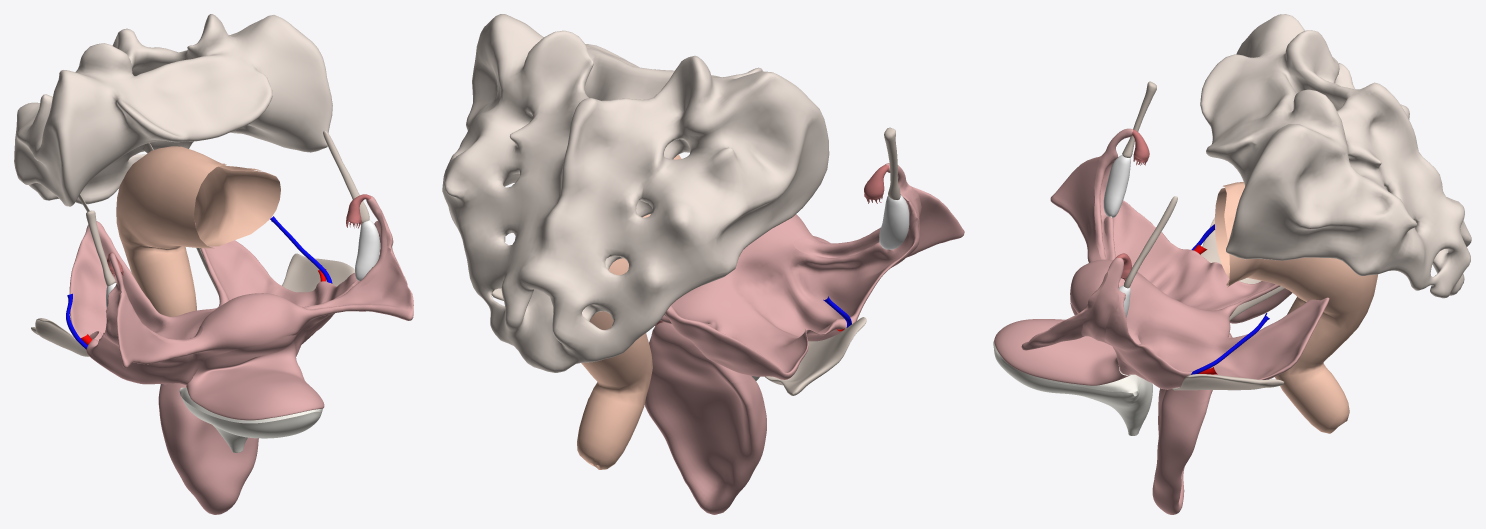
The model's file is pelvis.glb.
The picture shows the model from 3 angles, left to right: view 1: azimuth 30°, elevation 25°; view 2: azimuth 150°, elevation 25°; view 3: azimuth 270°, elevation 25°; orthographic projection. The views are drawn at different scales.
Visible parts, largest first — view 1: VH_F_sacrum, VH_F_broad_ligament, VH_F_rectum, VH_F_uterovesical_pouch, VH_F_vagina, VH_F_fundus_of_urinary_bladder_base, VH_F_left_cardinal_ligament_of_uterus, VH_F_mesosalpinx_L, VH_F_mesosalpinx_R, VH_F_left_ovary, VH_F_right_cardinal_ligament_of_uterus, VH_F_suspensory_ligament_of_ovary_L (+2 smaller); view 2: VH_F_sacrum, VH_F_broad_ligament, VH_F_vagina, VH_F_rectum, VH_F_cervicovaginal_junction, VH_F_right_cardinal_ligament_of_uterus, VH_F_mesosalpinx_R, VH_F_right_ovary, VH_F_suspensory_ligament_of_ovary_R; view 3: VH_F_sacrum, VH_F_broad_ligament, VH_F_rectum, VH_F_uterovesical_pouch, VH_F_vagina, VH_F_fundus_of_urinary_bladder_base, VH_F_mesosalpinx_L, VH_F_mesosalpinx_R, VH_F_left_cardinal_ligament_of_uterus, VH_F_right_ovary, VH_F_fundus_of_urinary_bladder_dome, VH_F_suspensory_ligament_of_ovary_L (+1 smaller).
Part boxes in pixels (left/top/right/bottom): VH_F_sacrum: left=14, top=14, right=332, bottom=206; VH_F_broad_ligament: left=69, top=209, right=413, bottom=385; VH_F_rectum: left=116, top=146, right=280, bottom=316; VH_F_uterovesical_pouch: left=186, top=335, right=324, bottom=420; VH_F_vagina: left=158, top=384, right=258, bottom=514; VH_F_fundus_of_urinary_bladder_base: left=181, top=396, right=321, bottom=447; VH_F_left_cardinal_ligament_of_uterus: left=282, top=253, right=354, bottom=292; VH_F_mesosalpinx_L: left=299, top=195, right=387, bottom=332; VH_F_mesosalpinx_R: left=106, top=253, right=202, bottom=353; VH_F_left_ovary: left=355, top=220, right=379, bottom=280; VH_F_right_cardinal_ligament_of_uterus: left=31, top=318, right=88, bottom=356; VH_F_suspensory_ligament_of_ovary_L: left=323, top=130, right=369, bottom=223; VH_F_sacrum: left=442, top=14, right=829, bottom=372; VH_F_broad_ligament: left=660, top=186, right=964, bottom=379; VH_F_vagina: left=644, top=365, right=766, bottom=514; VH_F_rectum: left=577, top=154, right=681, bottom=469; VH_F_cervicovaginal_junction: left=649, top=322, right=748, bottom=382; VH_F_right_cardinal_ligament_of_uterus: left=765, top=317, right=866, bottom=395; VH_F_mesosalpinx_R: left=793, top=163, right=921, bottom=257; VH_F_right_ovary: left=879, top=195, right=909, bottom=249; VH_F_suspensory_ligament_of_ovary_R: left=884, top=127, right=900, bottom=199; VH_F_sacrum: left=1200, top=14, right=1471, bottom=298; VH_F_broad_ligament: left=1021, top=156, right=1329, bottom=389; VH_F_rectum: left=1214, top=182, right=1377, bottom=433; VH_F_uterovesical_pouch: left=994, top=301, right=1130, bottom=385; VH_F_vagina: left=1152, top=388, right=1209, bottom=514; VH_F_fundus_of_urinary_bladder_base: left=993, top=347, right=1152, bottom=429; VH_F_mesosalpinx_L: left=1081, top=257, right=1123, bottom=343; VH_F_mesosalpinx_R: left=1094, top=128, right=1132, bottom=259; VH_F_left_cardinal_ligament_of_uterus: left=1172, top=374, right=1283, bottom=390; VH_F_right_ovary: left=1103, top=155, right=1130, bottom=217; VH_F_fundus_of_urinary_bladder_dome: left=993, top=340, right=1140, bottom=393; VH_F_suspensory_ligament_of_ovary_L: left=1123, top=196, right=1177, bottom=288.
Bounding box in the file's own units: 1.4 × 1.95 × 1.85.
